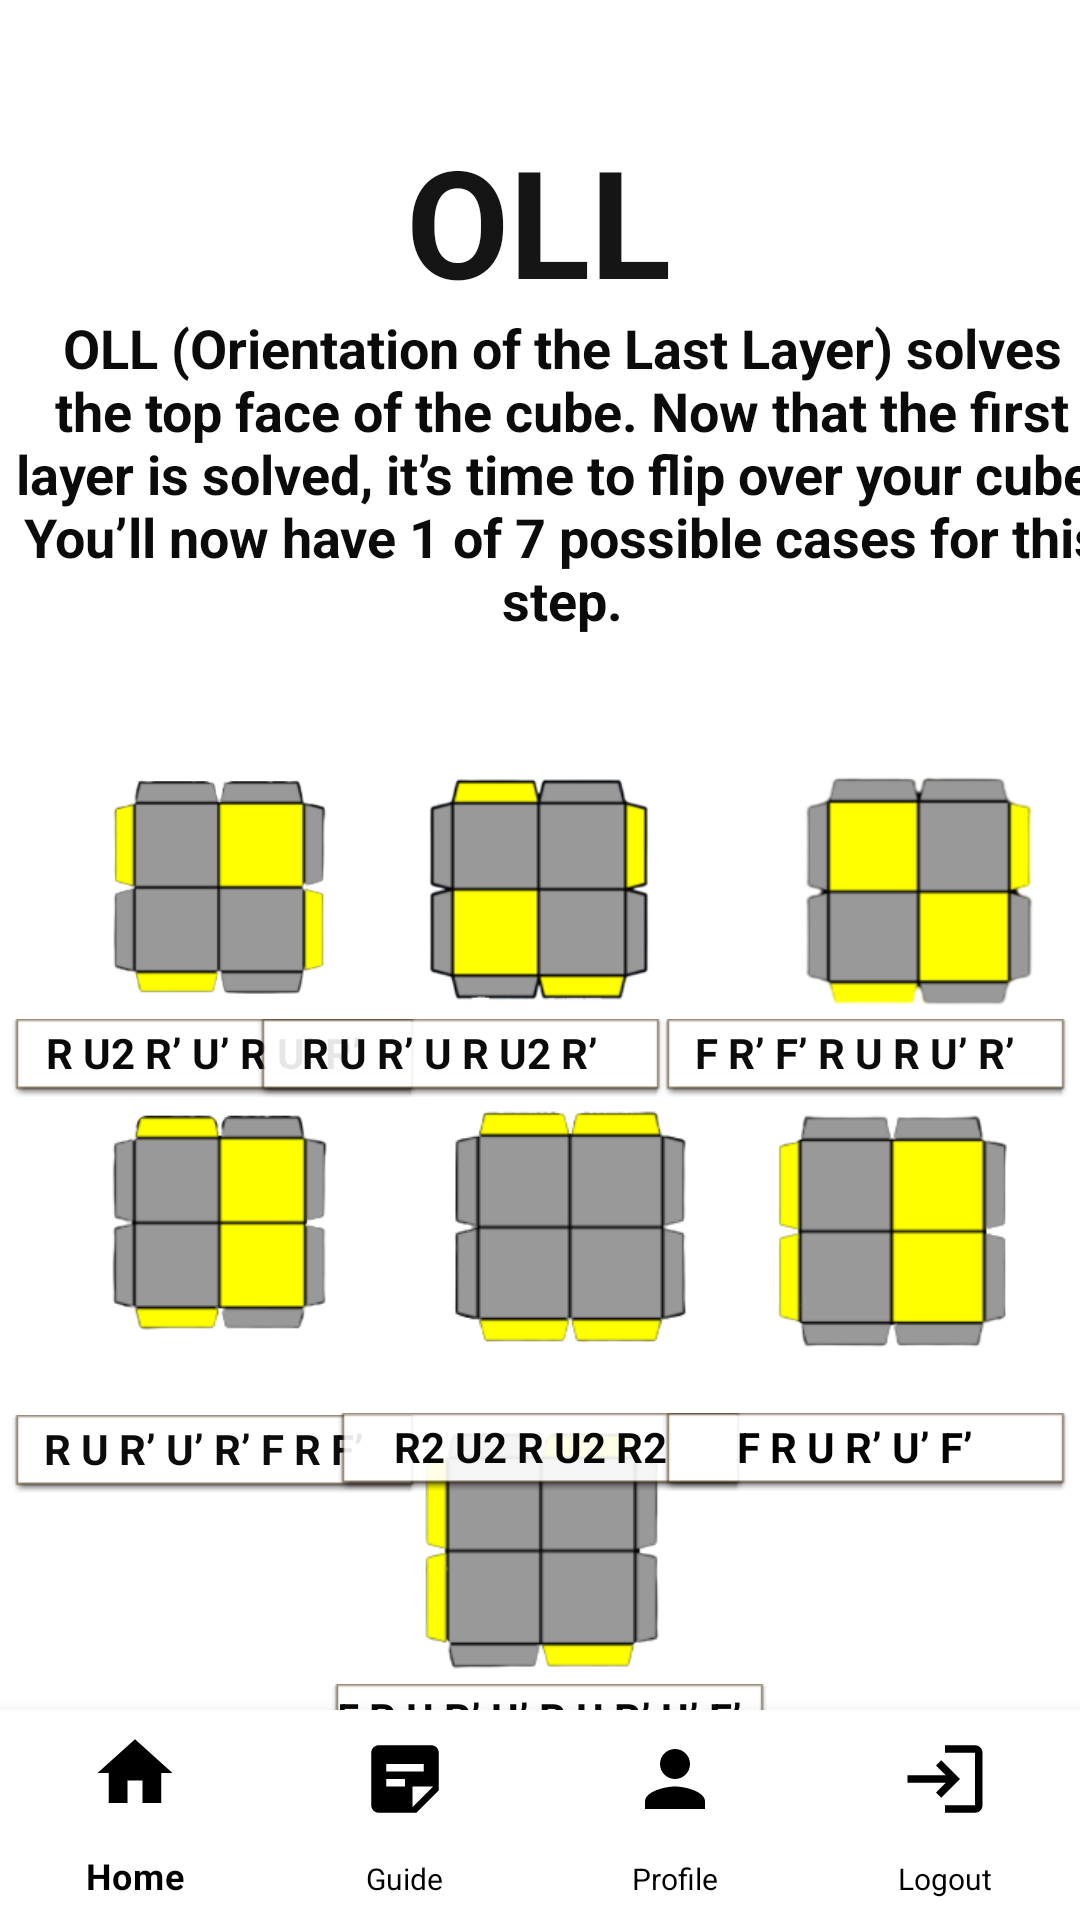

Icons on this 1080*1920 Android screen, each with its box as (x1, y1, x2, y2):
antisune: (48, 781, 365, 1070)
sune: (405, 779, 648, 1048)
